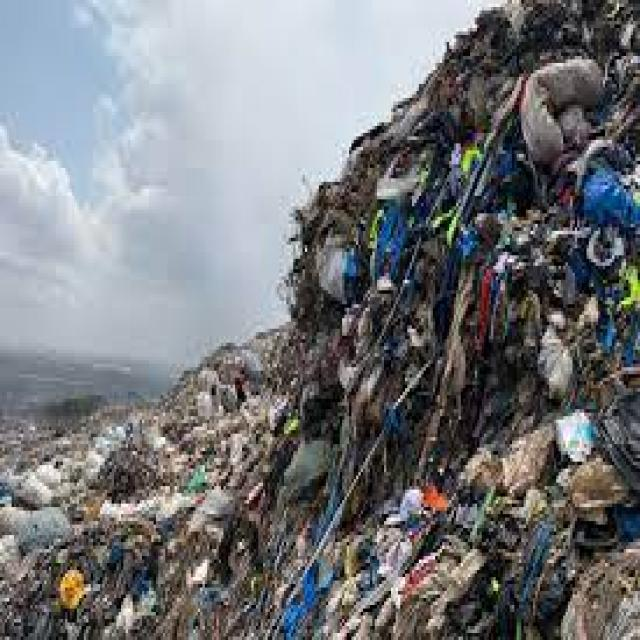Clothes -Biodegradable-: (523, 63, 606, 167)
